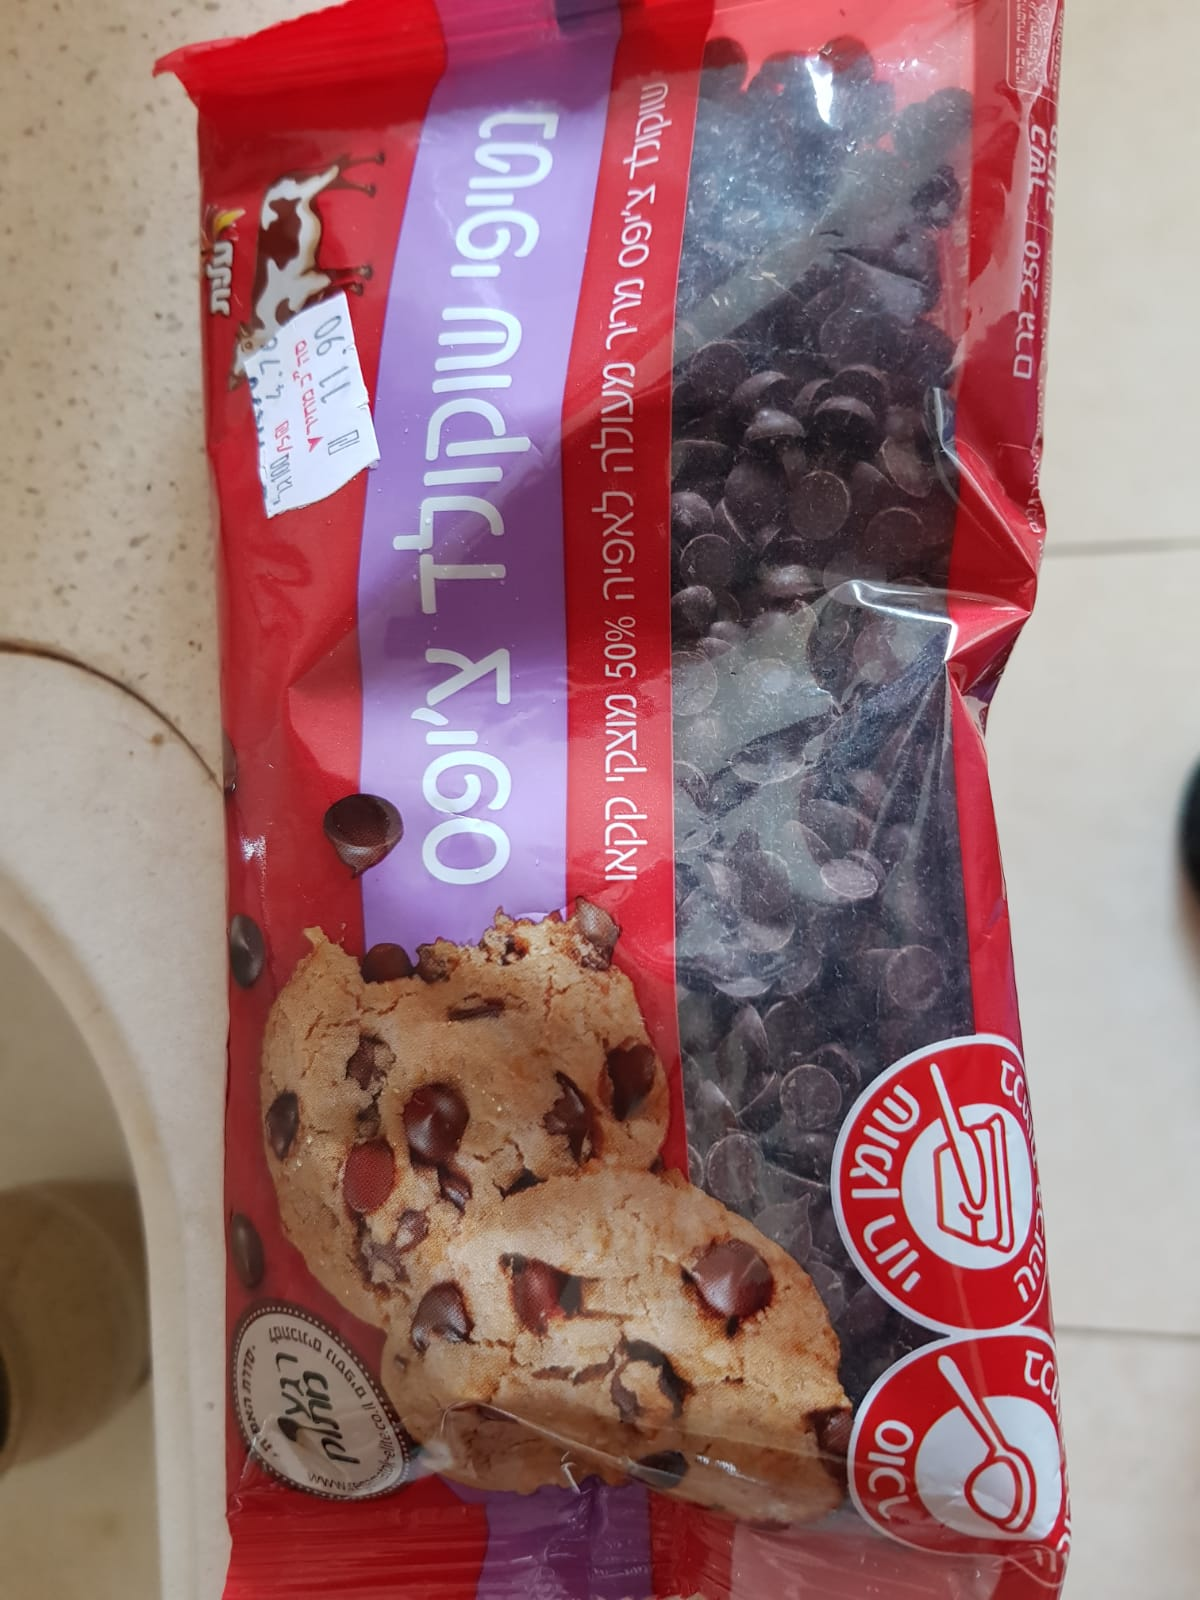fat: (831, 1031, 1053, 1335)
sugar: (839, 1333, 1071, 1591)
